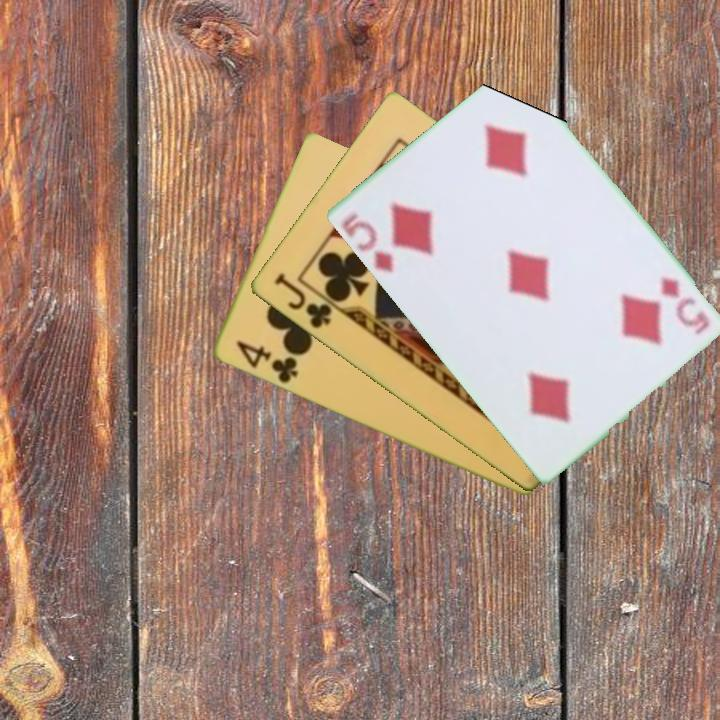4c: (232, 337, 300, 387)
5d: (337, 209, 396, 276), (656, 272, 713, 338)
Jc: (270, 269, 334, 332)
